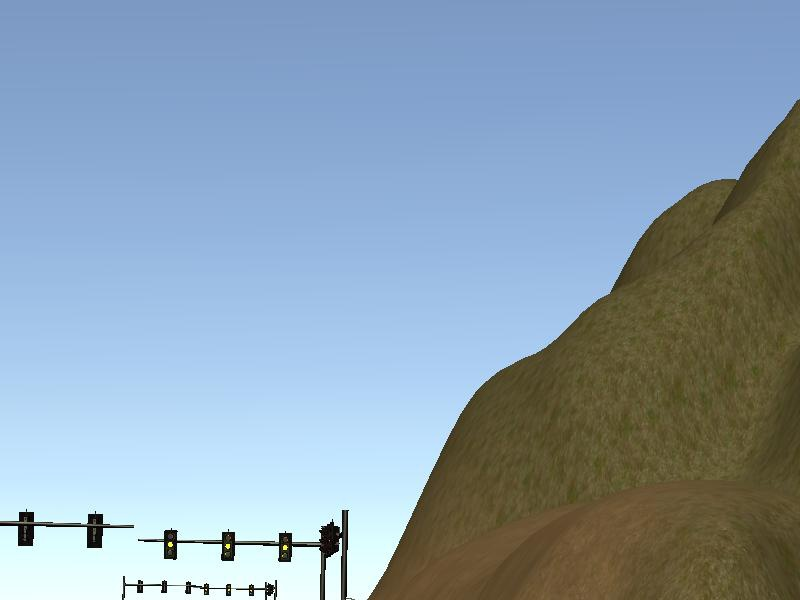yellow_light: (163, 530, 177, 561), (279, 532, 293, 560), (224, 532, 236, 561)
